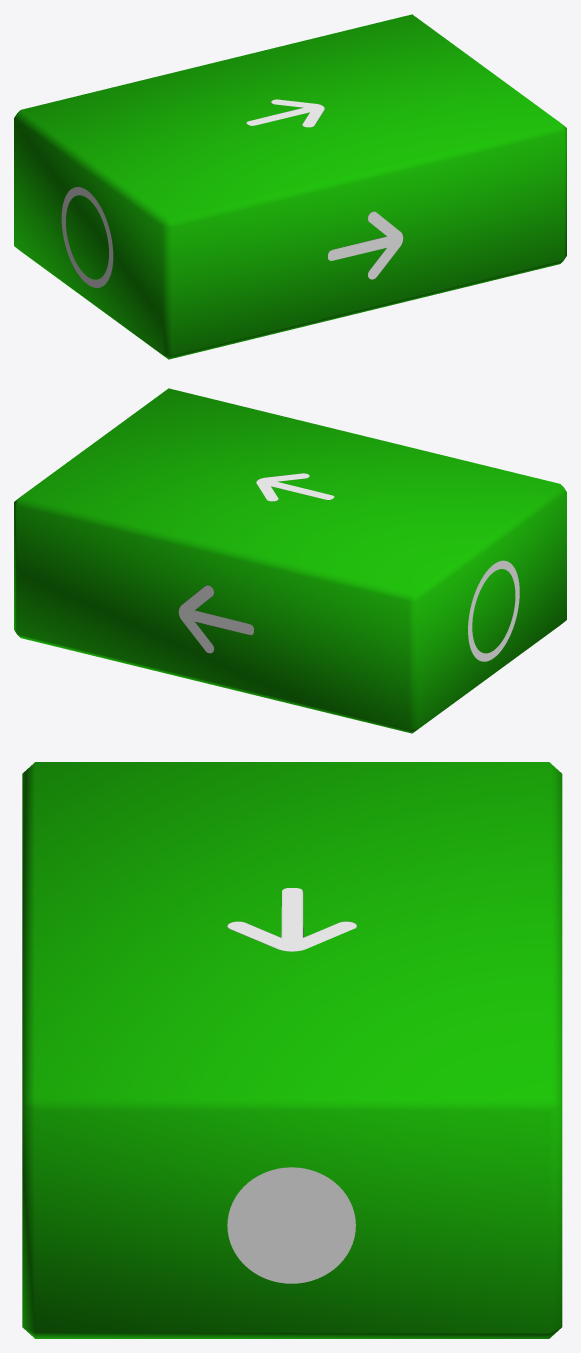
File: BigBoxTapFlowBox_2_1_3_Clean_test2.fbx
The picture shows the model from 3 angles, top to bottom: view 1: azimuth 30°, elevation 25°; view 2: azimuth 150°, elevation 25°; view 3: azimuth 270°, elevation 25°; orthographic projection. The views are drawn at different scales.
Parts seen in each view (by area): view 1: BigBoxTapFlowBox_2_1_3_Clean_test; view 2: BigBoxTapFlowBox_2_1_3_Clean_test; view 3: BigBoxTapFlowBox_2_1_3_Clean_test.
Boxes of the visible parts, box(x1,y1,x2,y2) form: BigBoxTapFlowBox_2_1_3_Clean_test: box(14, 14, 566, 359); BigBoxTapFlowBox_2_1_3_Clean_test: box(14, 388, 566, 733); BigBoxTapFlowBox_2_1_3_Clean_test: box(22, 762, 562, 1338).
Size of the model in its own units: 3.17 by 1.08 by 2.14.
